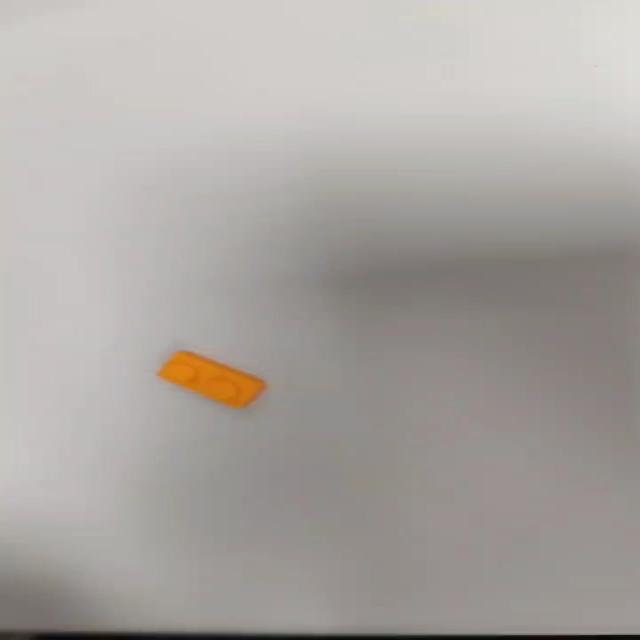C2x1x0: (149, 342, 279, 414), (147, 340, 276, 412)
